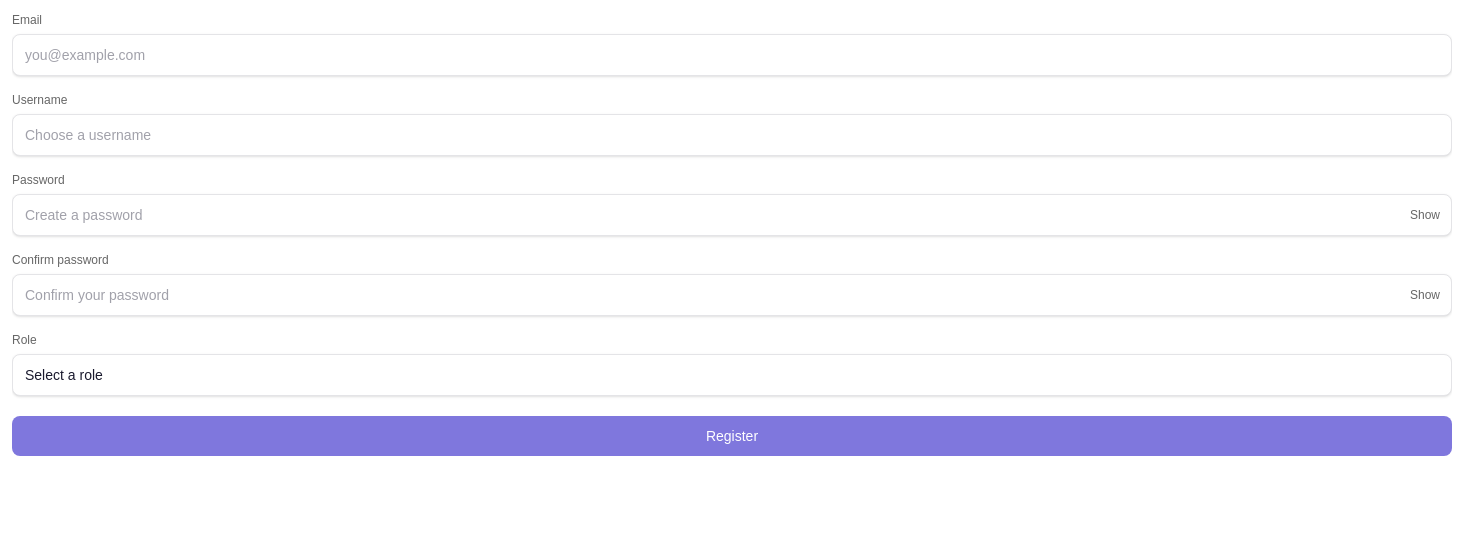
Test: RegisterForm › displays friendly error for 409 conflict
Type "user@test.com" into the field with placeholder "you@example.com" at (732, 55), box x1=12 y1=34 x2=1452 y2=76
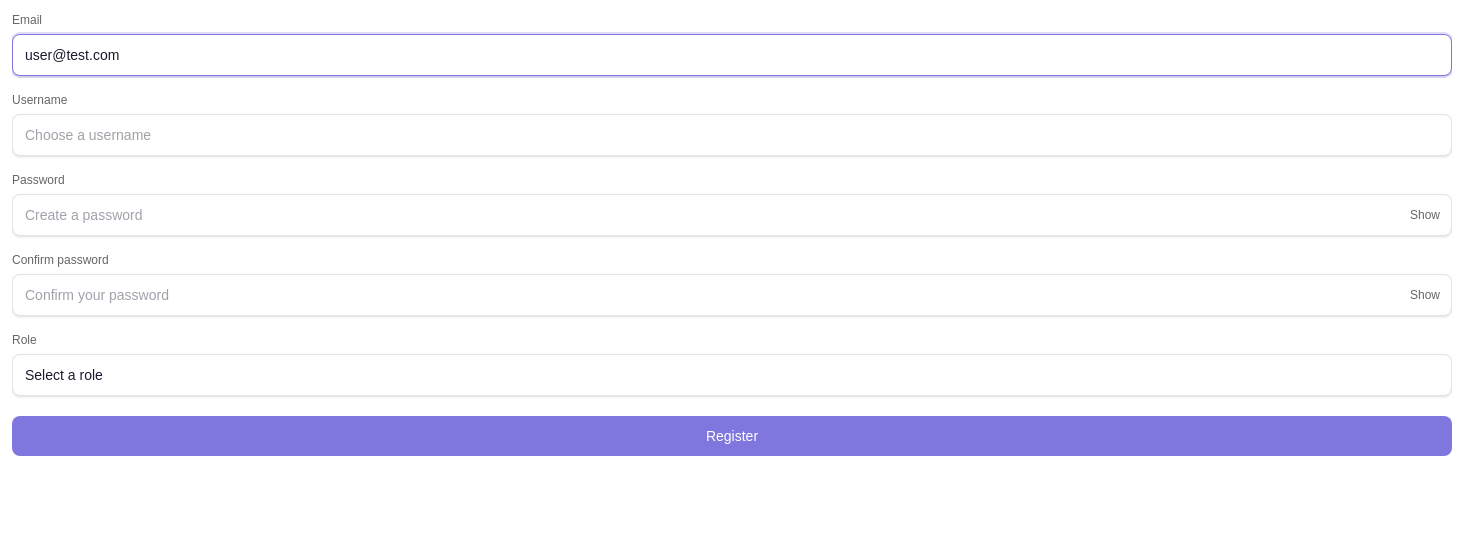
Type "user1" into the field with placeholder "Choose a username" at (732, 135), box x1=12 y1=114 x2=1452 y2=156
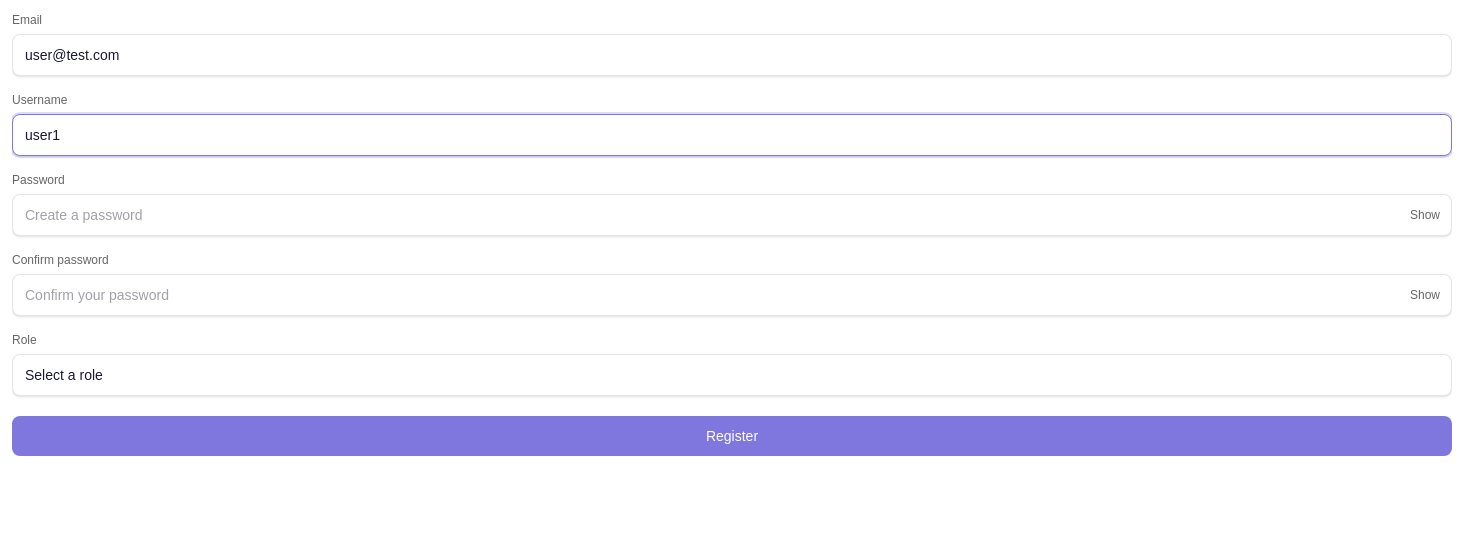
Type "password123" into the password field with placeholder "Create a password" at (732, 215), box x1=12 y1=194 x2=1452 y2=236
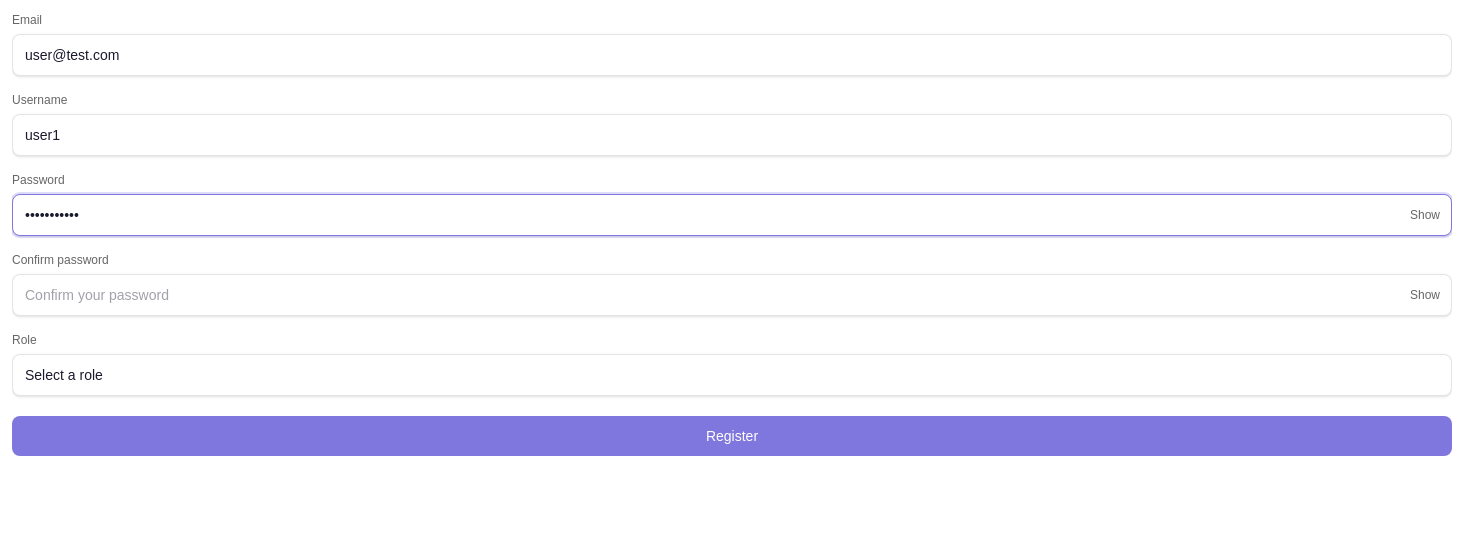
Type "password123" into the password field with placeholder "Confirm your password" at (732, 295), box x1=12 y1=274 x2=1452 y2=316
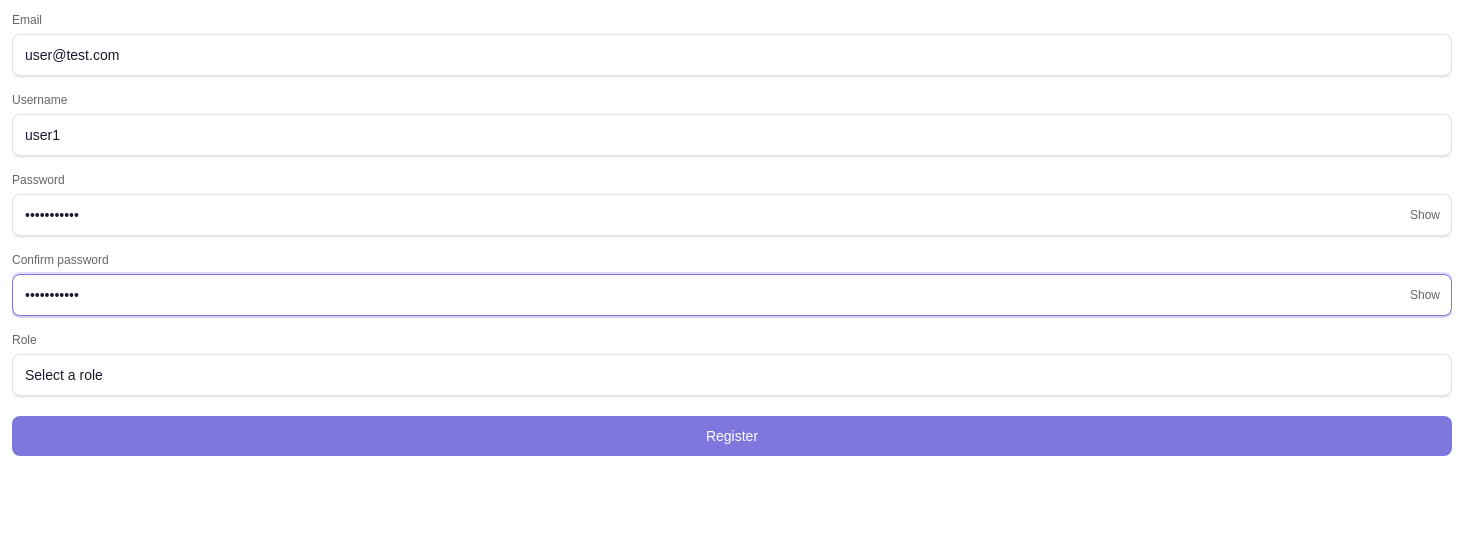
Select "user" in the dropdown at (732, 375), box x1=12 y1=354 x2=1452 y2=396
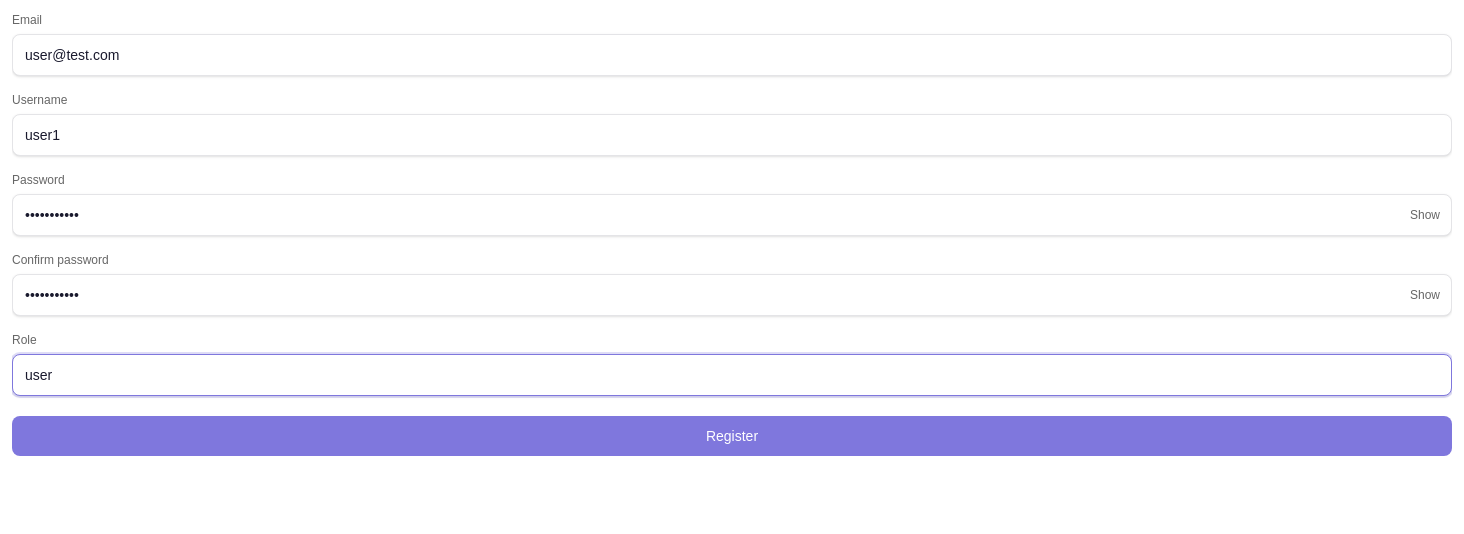
Click the button "Register" at (732, 436), box x1=12 y1=416 x2=1452 y2=456
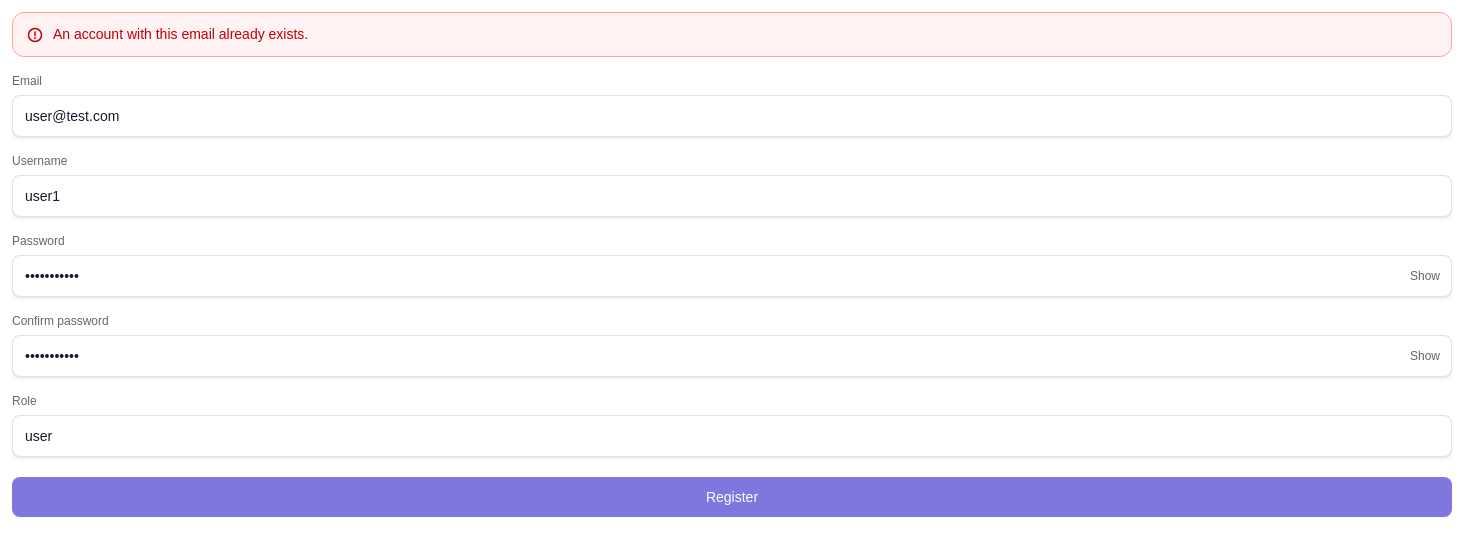
Expected: the text "An account with this email already exists." is shown, x1=53 y1=25 x2=308 y2=44
